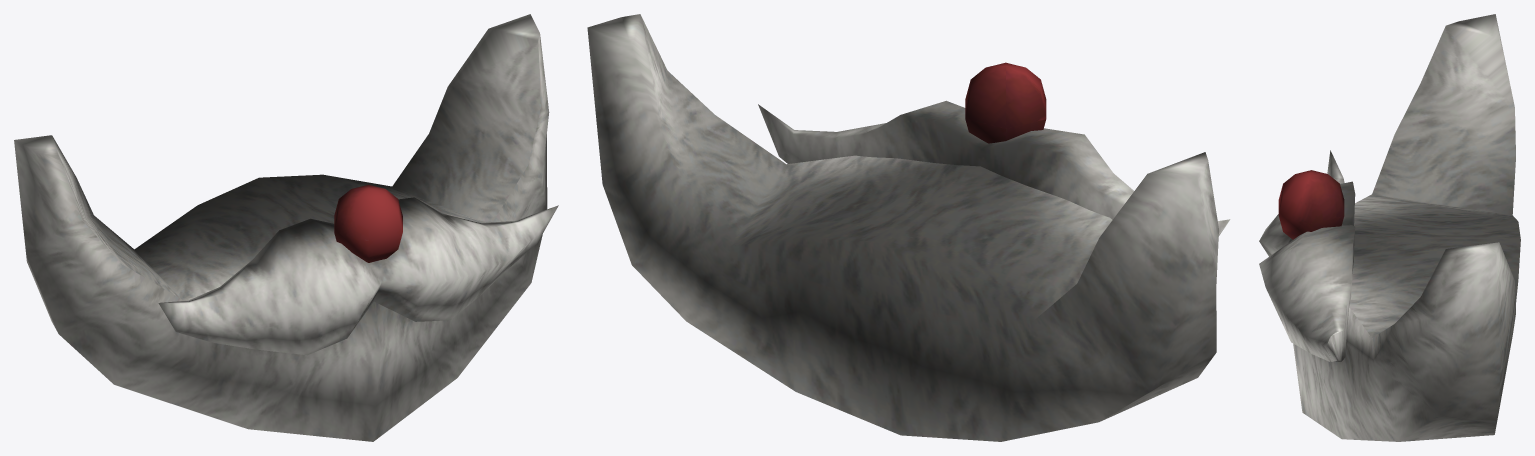
File: M_MustacheA.glb
3 views of the same model, side by side, from view 1: azimuth 30°, elevation 25°; view 2: azimuth 150°, elevation 25°; view 3: azimuth 270°, elevation 25° (orthographic). The views are drawn at different scales.
Visible parts, largest first — view 1: SM_MustacheA; view 2: SM_MustacheA; view 3: SM_MustacheA.
Part boxes in pixels (<box>): SM_MustacheA: <box>14,14,558,441</box>; SM_MustacheA: <box>587,14,1230,441</box>; SM_MustacheA: <box>1259,14,1520,441</box>.
Bounding box in the file's own units: 1.13 × 0.6021 × 0.5137.
Materials: 1 (1 with a texture image).
